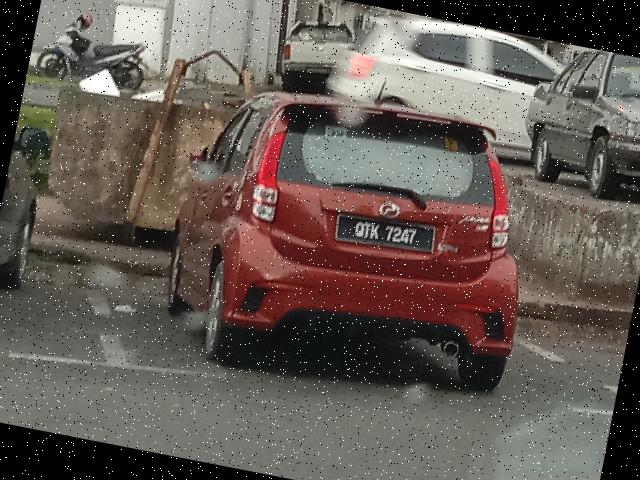License_Plate: (332, 208, 437, 260)
car: (144, 61, 559, 416)
